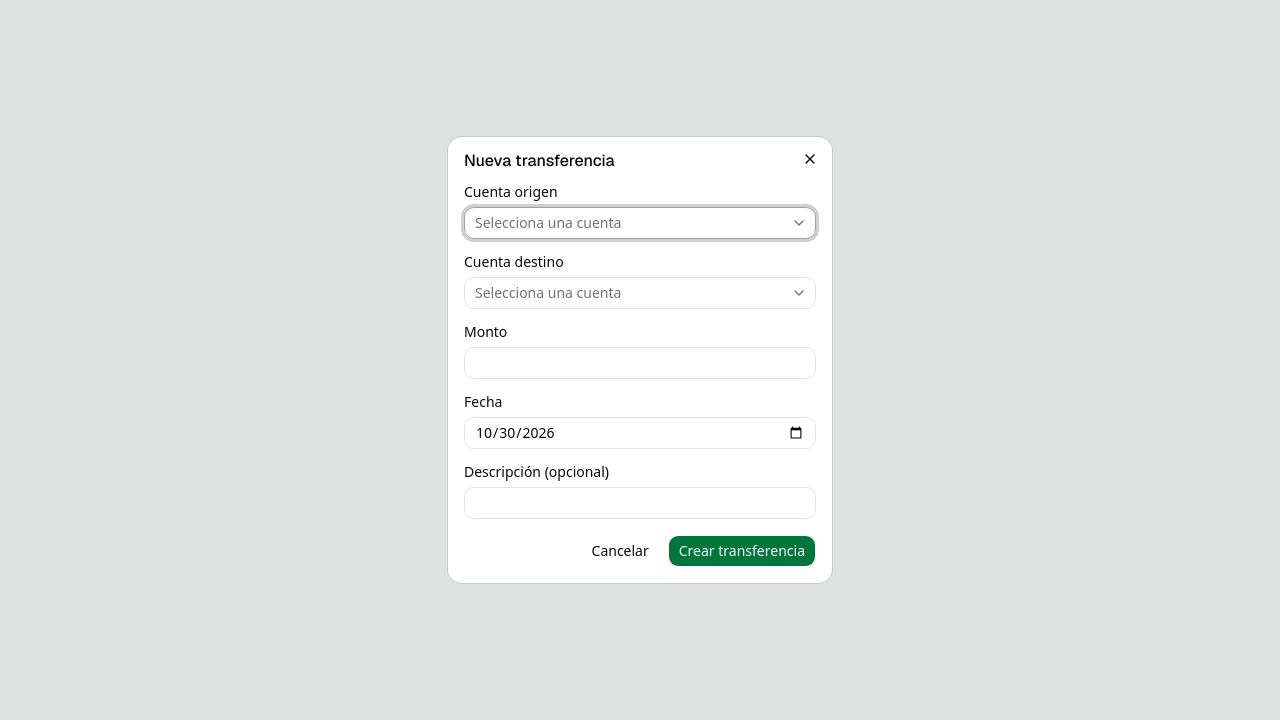
Scenario: TransferModal › muestra los campos y valida cuentas requeridas y monto
The width and height of the screenshot is (1280, 720).
Expected: the dropdown named "Cuenta origen" is shown, x1=464 y1=207 x2=816 y2=239
Expected: the dropdown named "Cuenta destino" is shown, x1=464 y1=277 x2=816 y2=309
Click the button "Crear transferencia": x=742, y=551 x1=668 y1=535 x2=816 y2=567
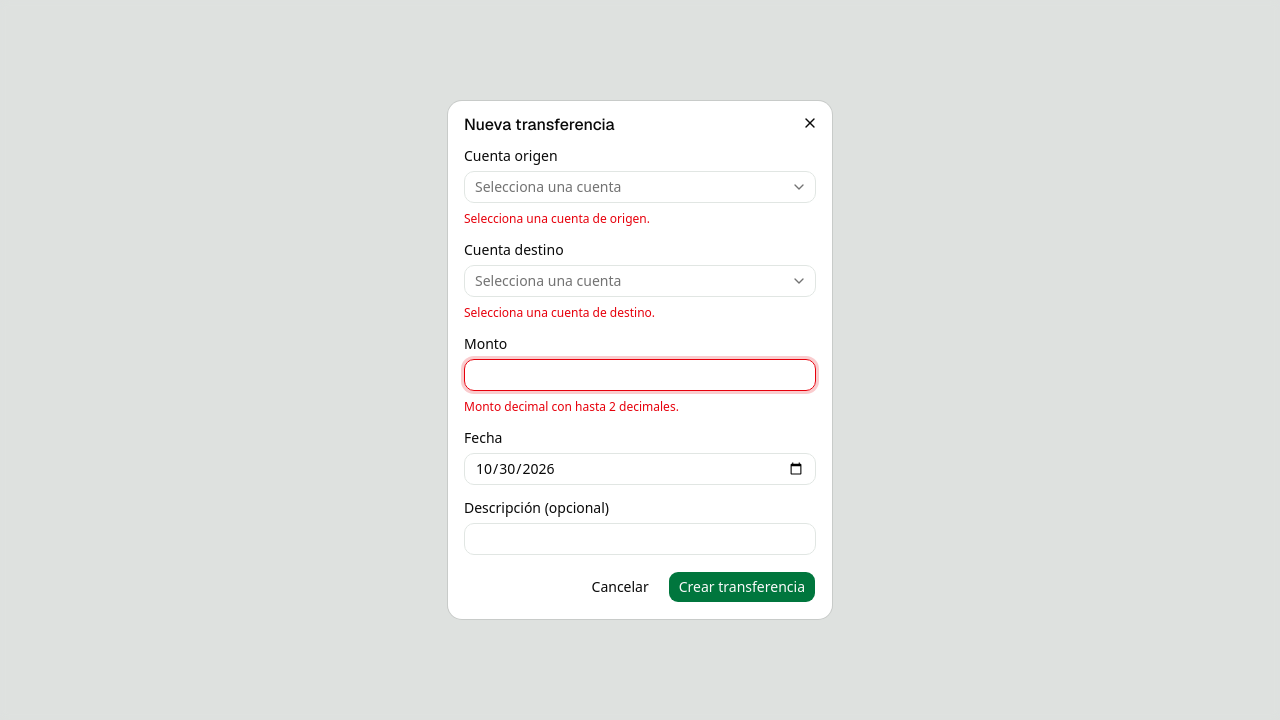
Expected: the text "Selecciona una cuenta de origen." is shown, x1=464 y1=210 x2=650 y2=227
Expected: the text "Selecciona una cuenta de destino." is shown, x1=464 y1=304 x2=655 y2=321
Expected: the text "Monto decimal con hasta 2 decimales." is shown, x1=464 y1=398 x2=679 y2=415
